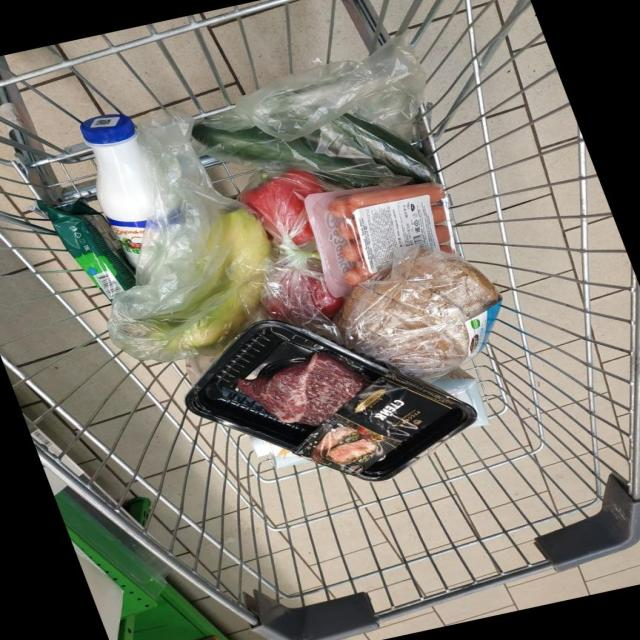Banana: (165, 208, 271, 357), (119, 211, 231, 340)
Bread: (335, 248, 501, 381)
Cheese: (38, 201, 135, 299)
Cucumber: (192, 124, 410, 188), (334, 113, 437, 182)
Meat: (185, 319, 476, 481)
Milk: (80, 113, 156, 266)
Sausages: (304, 183, 454, 297)
Tomatoes: (239, 169, 326, 246), (302, 276, 343, 319), (269, 301, 281, 313)
